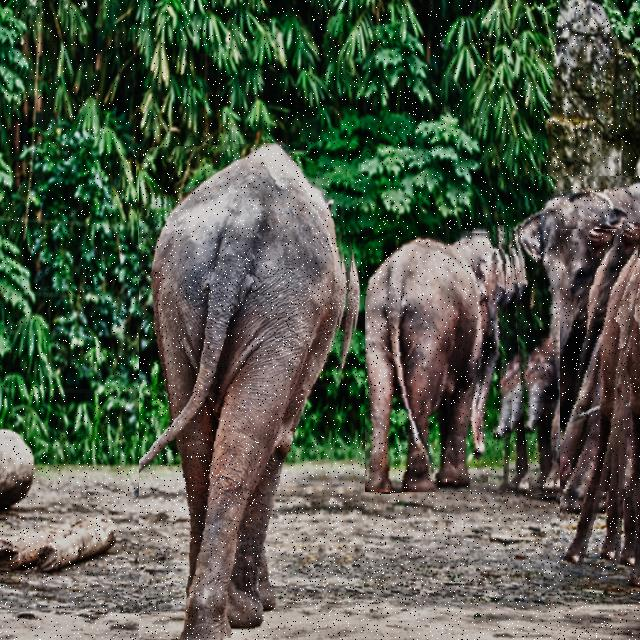elephant: (139, 142, 362, 640), (504, 176, 640, 495), (365, 228, 521, 492), (560, 229, 640, 572)
